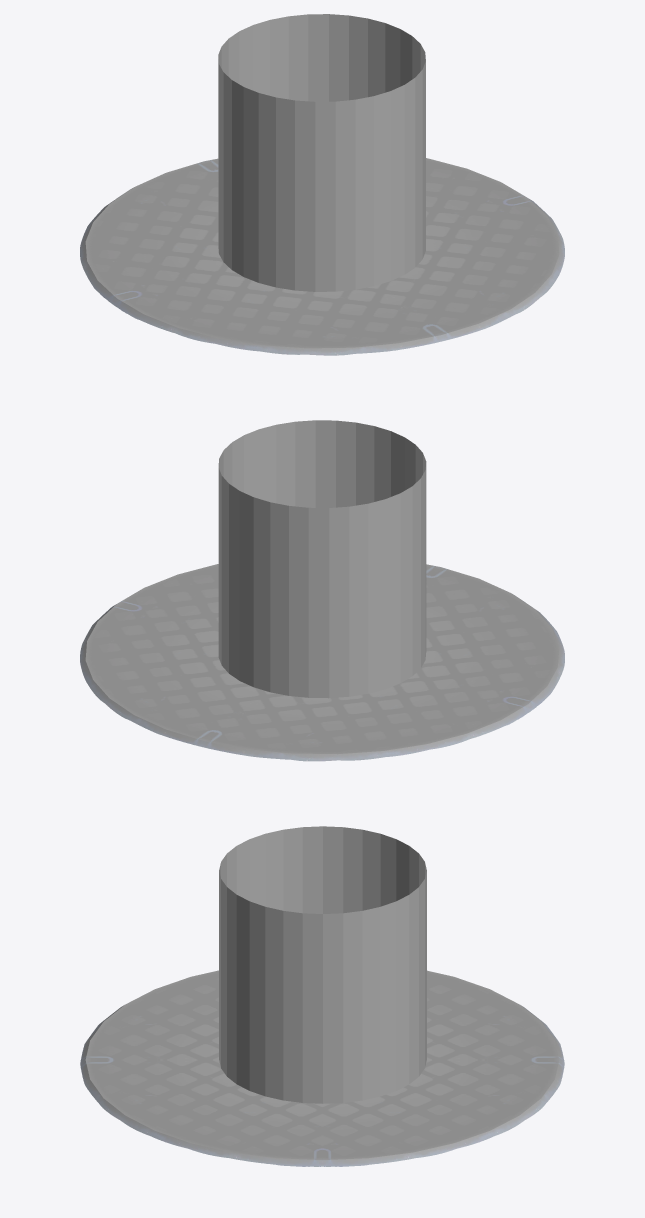
File: pref_TPC_v2_NeutralScoreArea03_winter_orange_born_lv2.fbx
The picture shows the model from 3 angles, top to bottom: view 1: azimuth 30°, elevation 25°; view 2: azimuth 150°, elevation 25°; view 3: azimuth 270°, elevation 25°; orthographic projection.
Parts seen in each view (by area): view 1: sm_fx_scorearea03_mesh_01_gp, sm_prop_platform06a_lv2; view 2: sm_fx_scorearea03_mesh_01_gp, sm_prop_platform06a_lv2; view 3: sm_fx_scorearea03_mesh_01_gp, sm_prop_platform06a_lv2.
Part boxes in pixels (box(x1,y1,x2,y2)): sm_fx_scorearea03_mesh_01_gp: box(218, 14, 425, 291); sm_prop_platform06a_lv2: box(80, 158, 564, 355); sm_fx_scorearea03_mesh_01_gp: box(218, 420, 426, 698); sm_prop_platform06a_lv2: box(80, 564, 564, 761); sm_fx_scorearea03_mesh_01_gp: box(219, 826, 426, 1103); sm_prop_platform06a_lv2: box(80, 970, 564, 1166).
Bounding box in the file's own units: 7.46 × 3.07 × 7.46.
